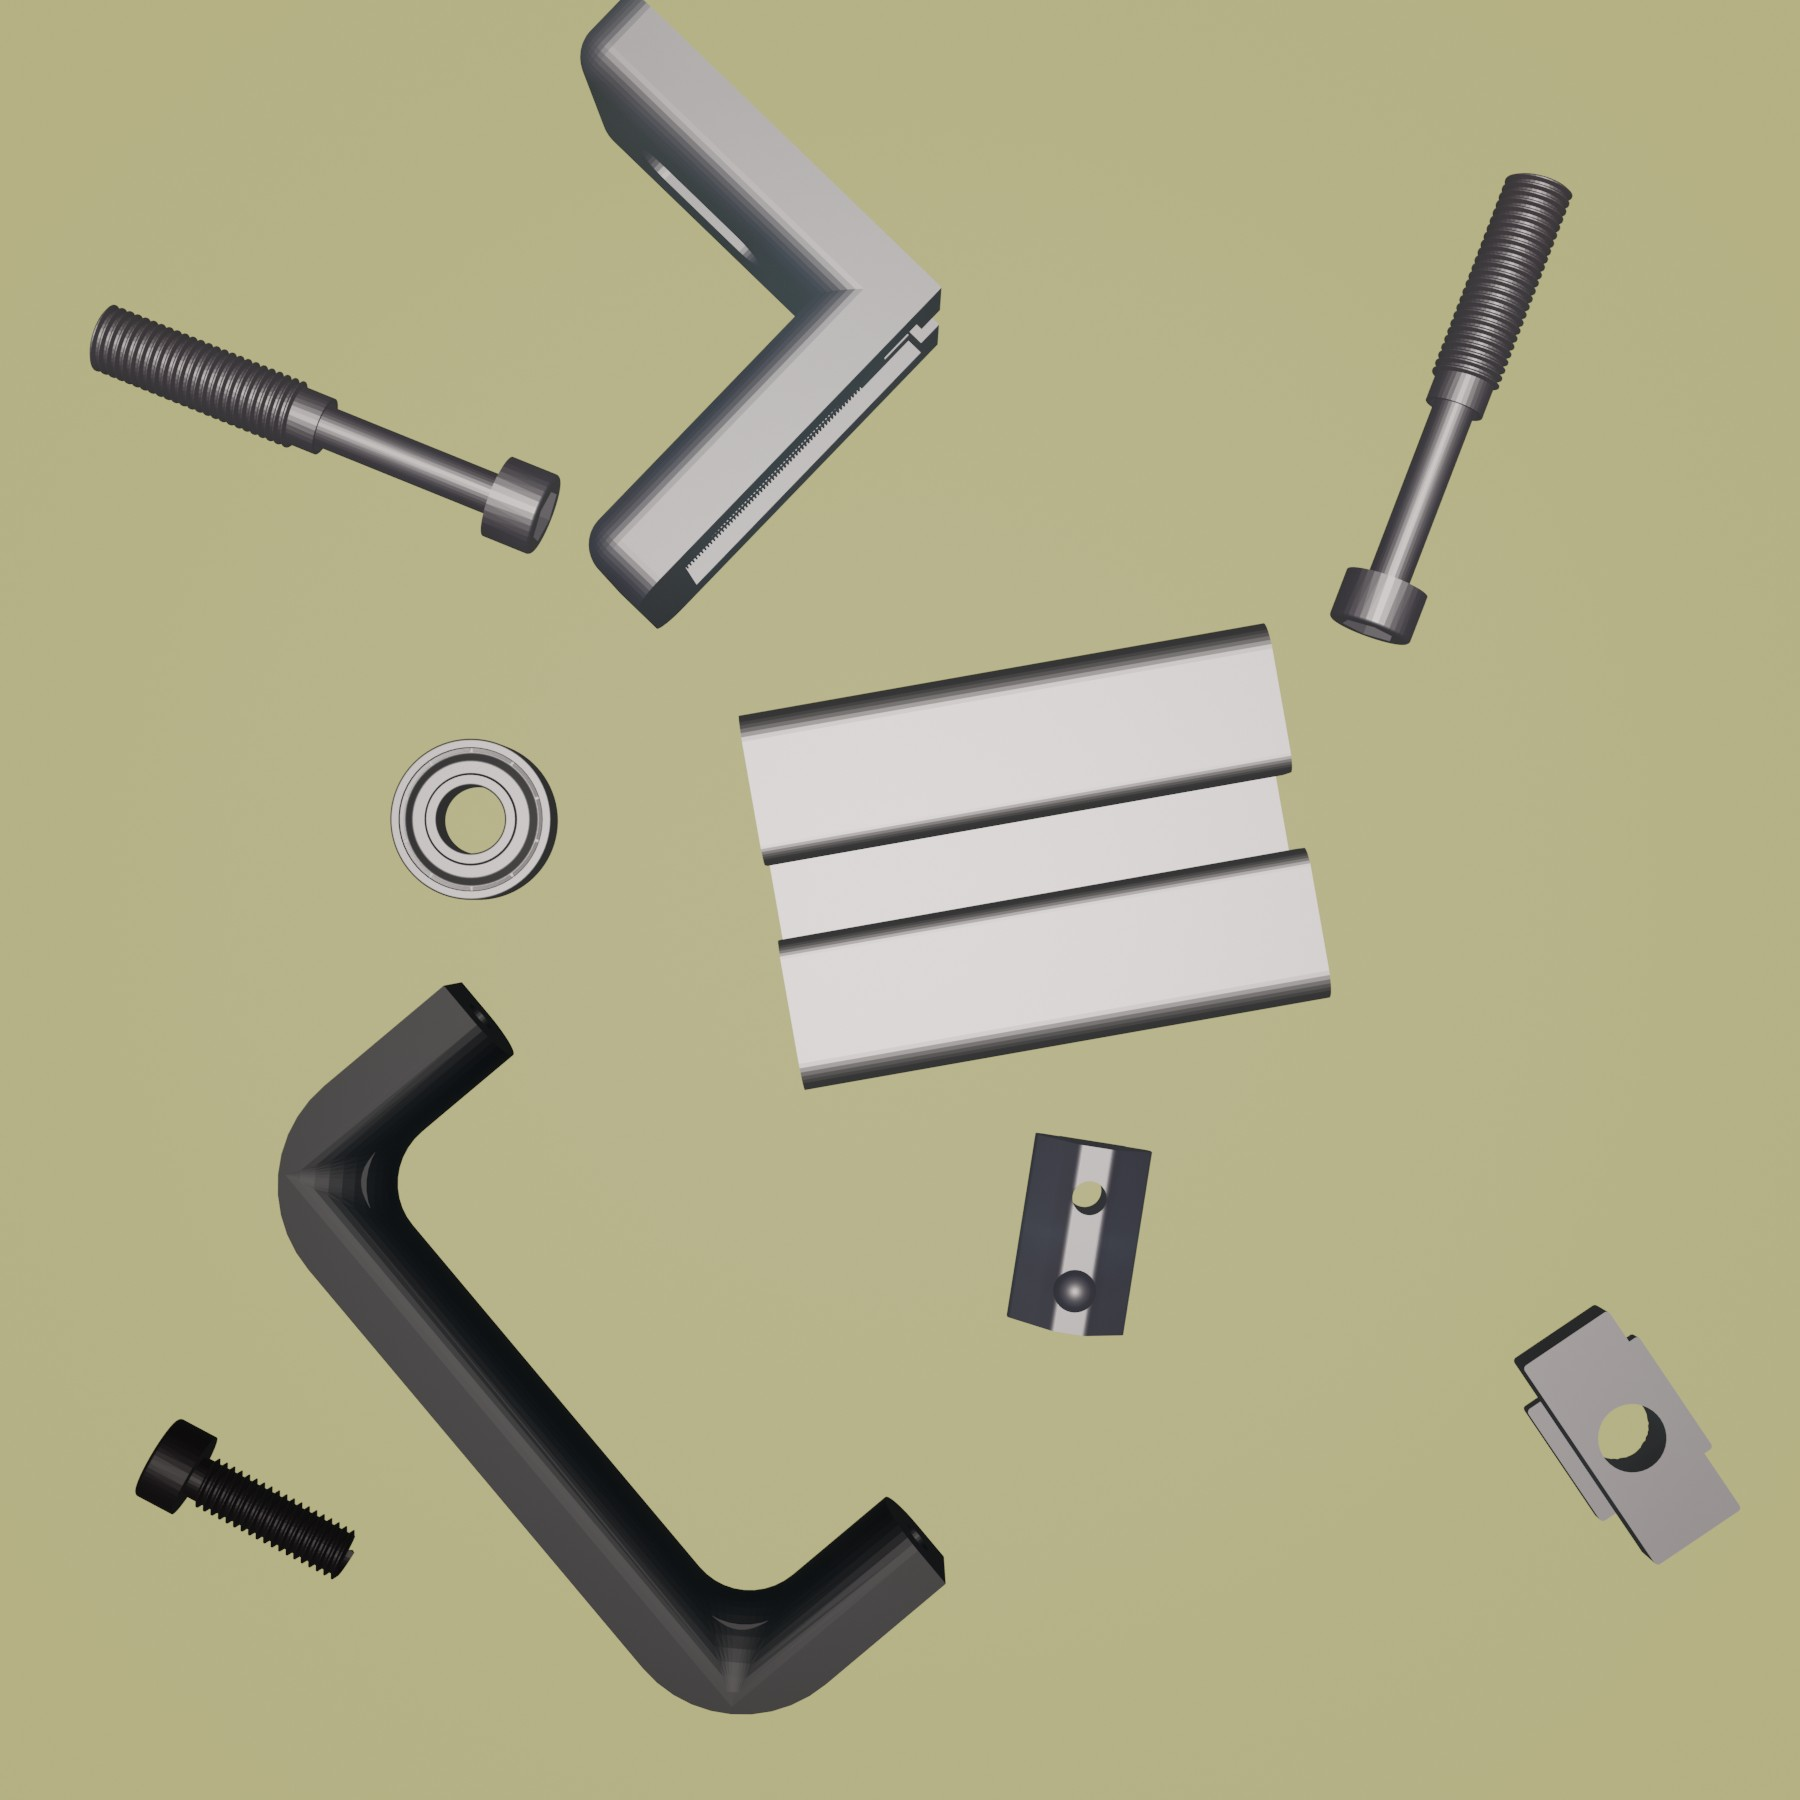Aluminium Extension: (735, 620, 1334, 1091)
Ball Bearing: (387, 734, 559, 903)
Multiwinkel: (577, 2, 945, 631)
Pull Handle: (274, 977, 948, 1714)
Shoulder Socket Head Cap Screw: (86, 298, 562, 555), (1327, 168, 1574, 648)
Socket Head Cap Screw: (132, 1414, 358, 1581)
T Nut Square: (1512, 1301, 1742, 1564)
T Spring Nut: (1004, 1131, 1155, 1338)
